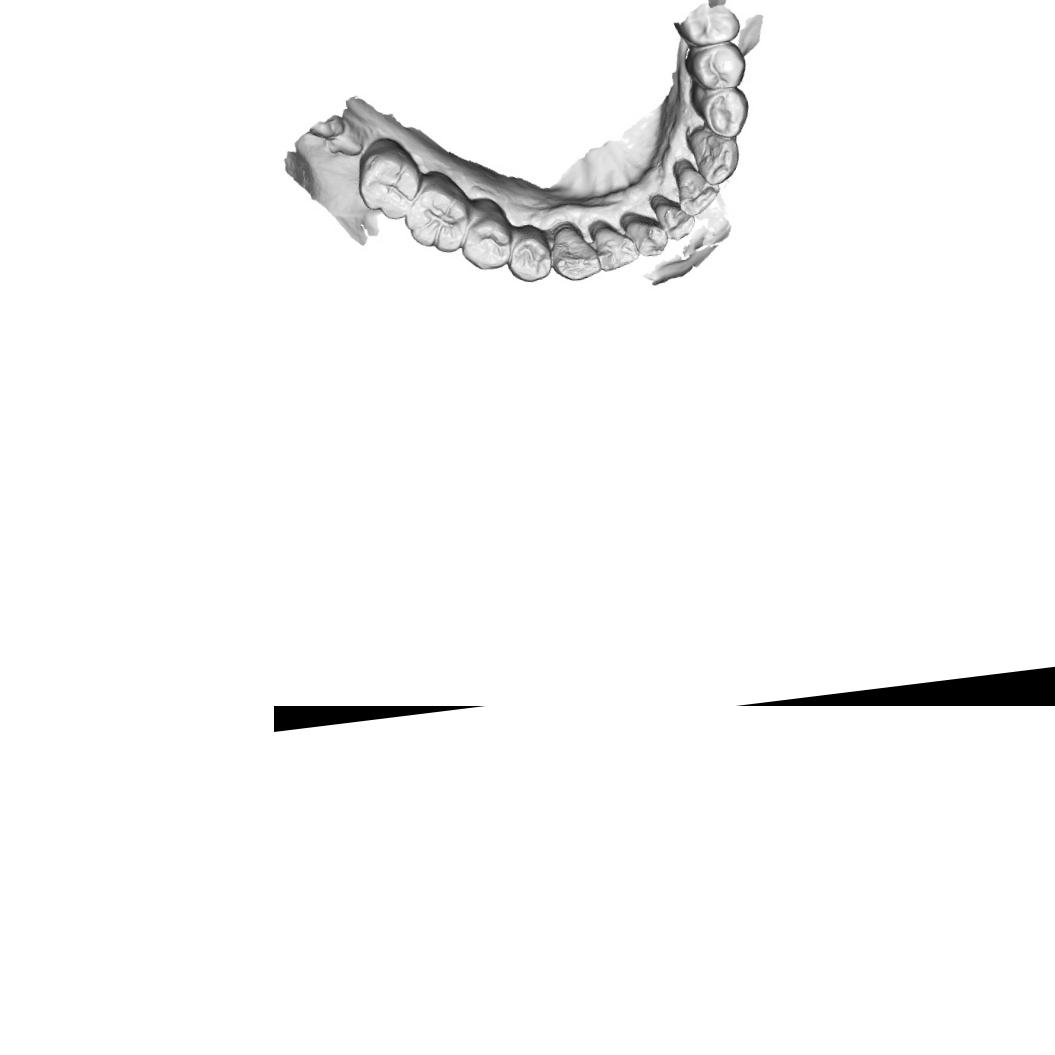canine: (546, 218, 603, 284), (685, 123, 742, 188)
incisor: (586, 210, 640, 274), (670, 154, 720, 218), (618, 206, 670, 261), (649, 189, 698, 243)
molar: (352, 132, 428, 224), (398, 173, 476, 257)
premolar: (455, 199, 518, 273), (688, 80, 752, 142), (682, 38, 748, 94), (503, 220, 554, 286)
